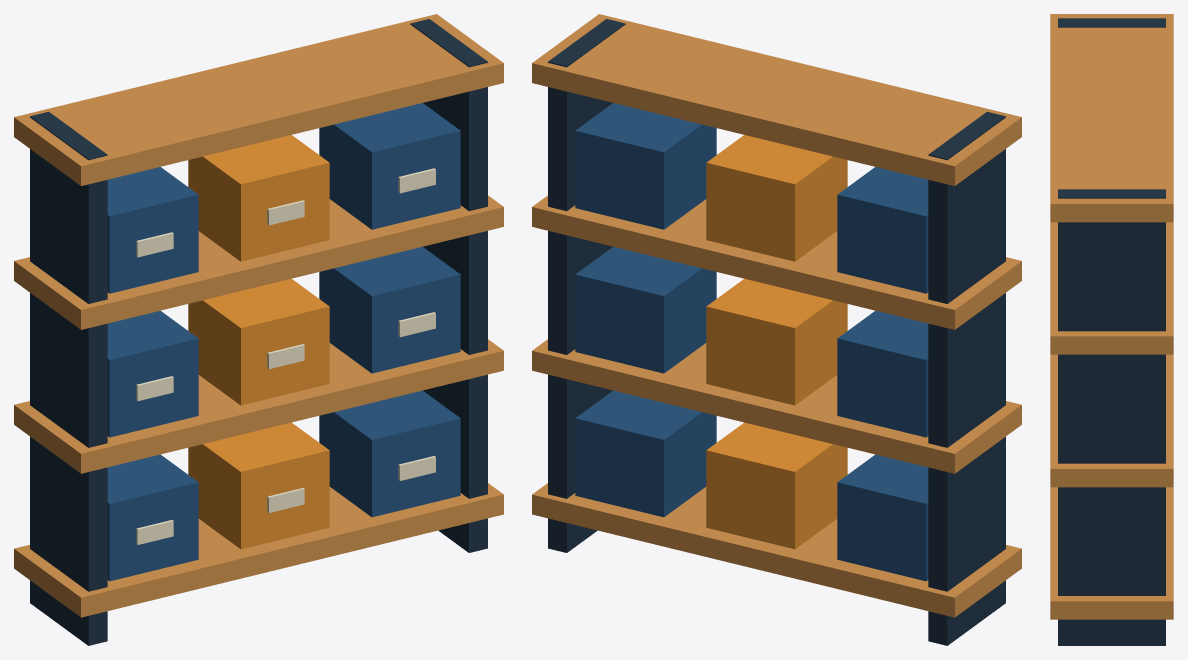
File: shelf.glb
The picture shows the model from 3 angles, left to right: view 1: azimuth 30°, elevation 25°; view 2: azimuth 150°, elevation 25°; view 3: azimuth 270°, elevation 25°; orthographic projection. The views are drawn at different scales.
Parts seen in each view (by area): view 1: Shared_shelf; view 2: Shared_shelf; view 3: Shared_shelf.
Boxes of the visible parts, <box> form: Shared_shelf: <box>14,14,503,645</box>; Shared_shelf: <box>532,14,1021,645</box>; Shared_shelf: <box>1050,14,1173,645</box>.
Bounding box in the file's own units: 2 × 2.2 × 0.55.
